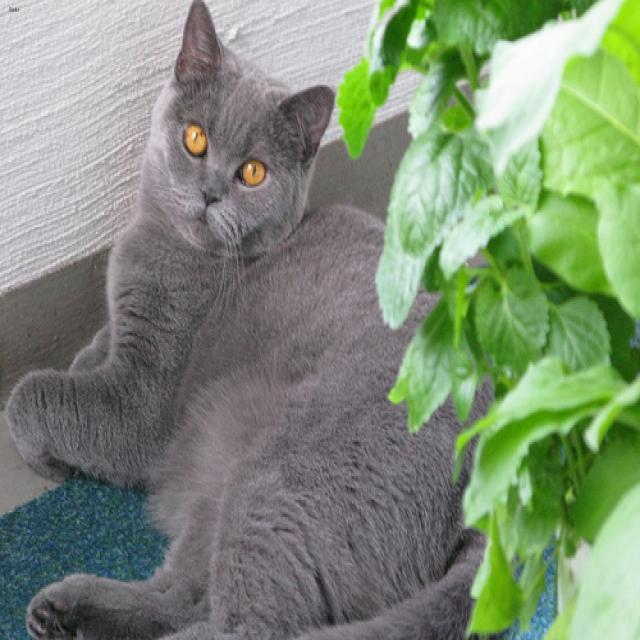British_Shorthair: (138, 0, 339, 268)
